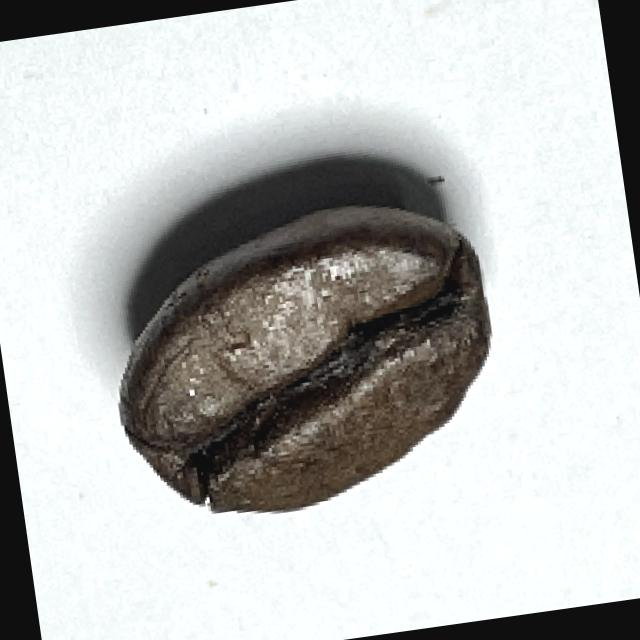bean: (92, 188, 514, 535)
